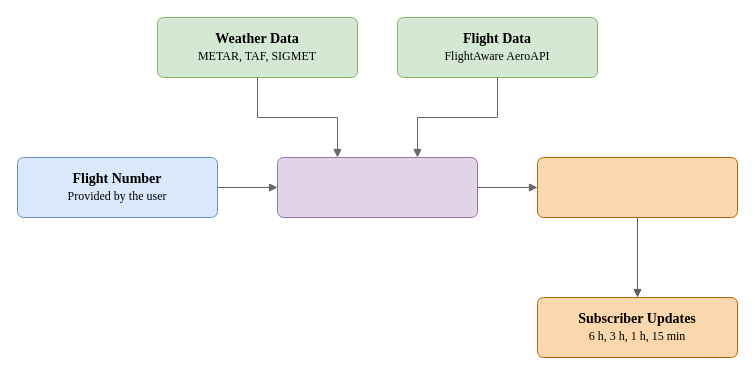
The diagram is 755 pixels wide and 375 high, and some of its shapes have lost their labels. The centre of each missing label's shape, as x and y in pixels:
"Aeroq Flight delay prediction platform" goes at point (377, 187).
"Prediction Probability of a delay > 15 min" goes at point (637, 187).
